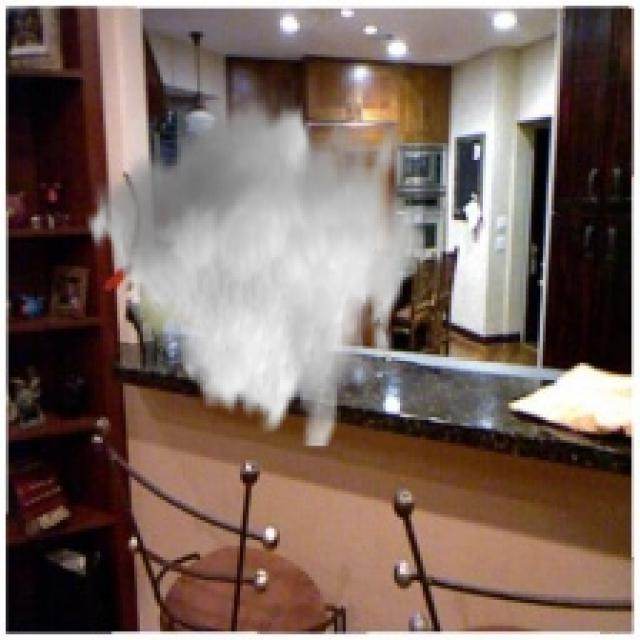Smoke: (80, 91, 426, 448)
